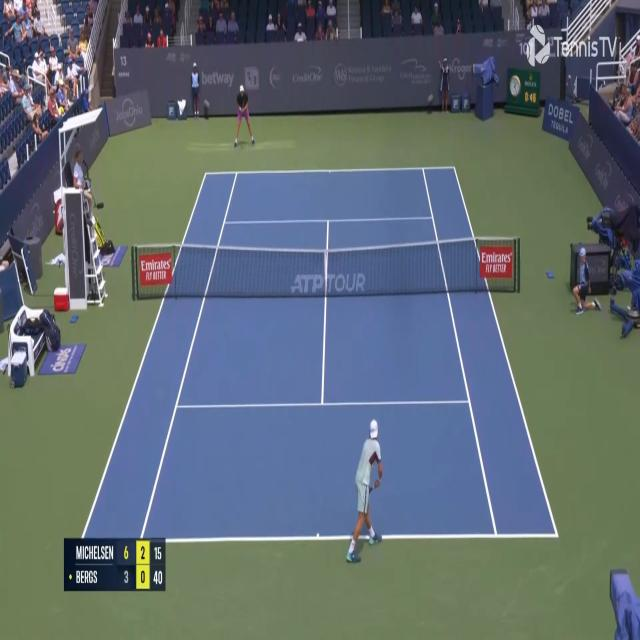tennis-player: (344, 414, 384, 567), (234, 83, 256, 150)
